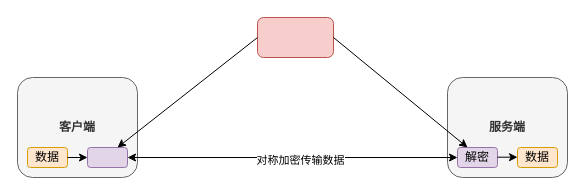
This 585x195 diagram has some shape labels left out. Here are the shapes that lost their labels. From the top down, the centre of each, then its label:
At point 295,37: "秘钥".
At point 107,157: "加密".
